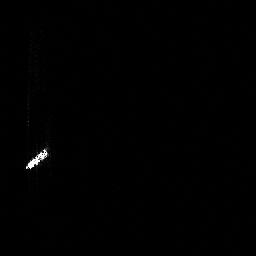ship: (21, 144, 53, 172)
